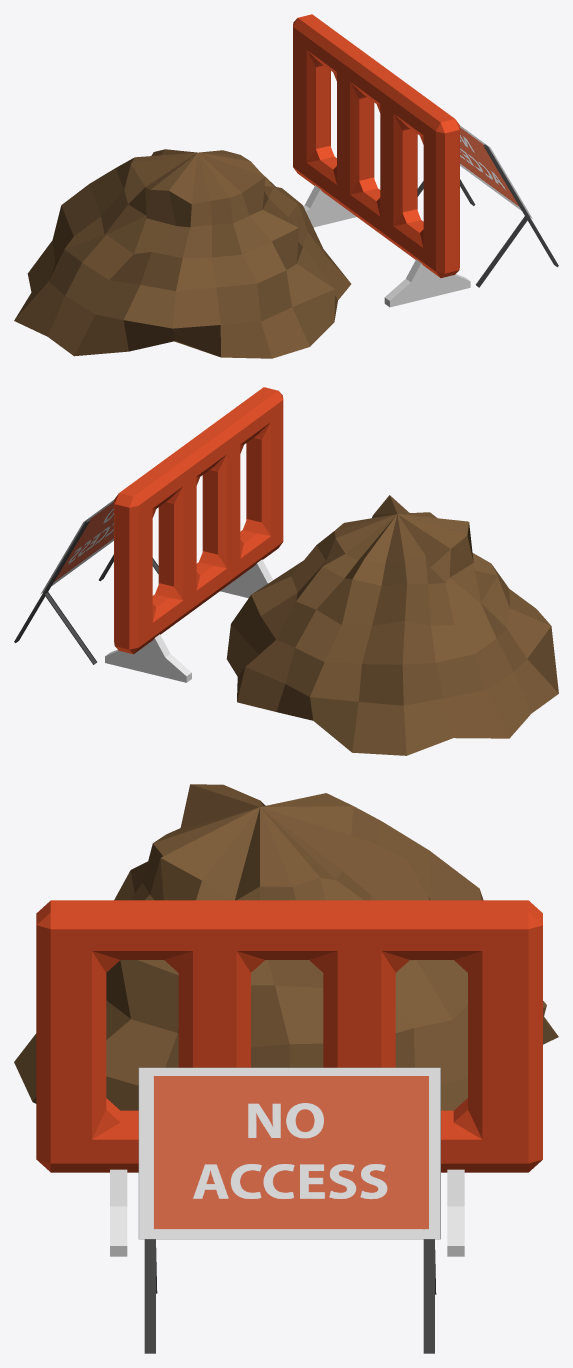
File: Roadworks.fbx
3 renders of one model, top to bottom at view 1: azimuth 30°, elevation 25°; view 2: azimuth 150°, elevation 25°; view 3: azimuth 270°, elevation 25°, orthographic. The views are drawn at different scales.
Parts seen in each view (by area): view 1: PIle, Gate, Sign, Leg L, Leg R; view 2: PIle, Gate, Sign, Leg R, Leg L; view 3: Gate, Sign, PIle, Leg R, Leg L.
Part boxes in pixels (bbox=[...]): PIle: bbox=[14, 149, 351, 358]; Gate: bbox=[293, 14, 459, 277]; Sign: bbox=[417, 125, 558, 287]; Leg L: bbox=[384, 259, 470, 307]; Leg R: bbox=[303, 185, 356, 227]; PIle: bbox=[226, 495, 558, 755]; Gate: bbox=[114, 387, 283, 654]; Sign: bbox=[14, 500, 158, 664]; Leg R: bbox=[105, 634, 191, 682]; Leg L: bbox=[220, 559, 273, 598]; Gate: bbox=[36, 900, 542, 1172]; Sign: bbox=[138, 1067, 440, 1353]; PIle: bbox=[14, 784, 558, 1110]; Leg R: bbox=[447, 1169, 464, 1256]; Leg L: bbox=[110, 1169, 127, 1256].
Bounding box in the file's own units: 636 × 261 × 379.
